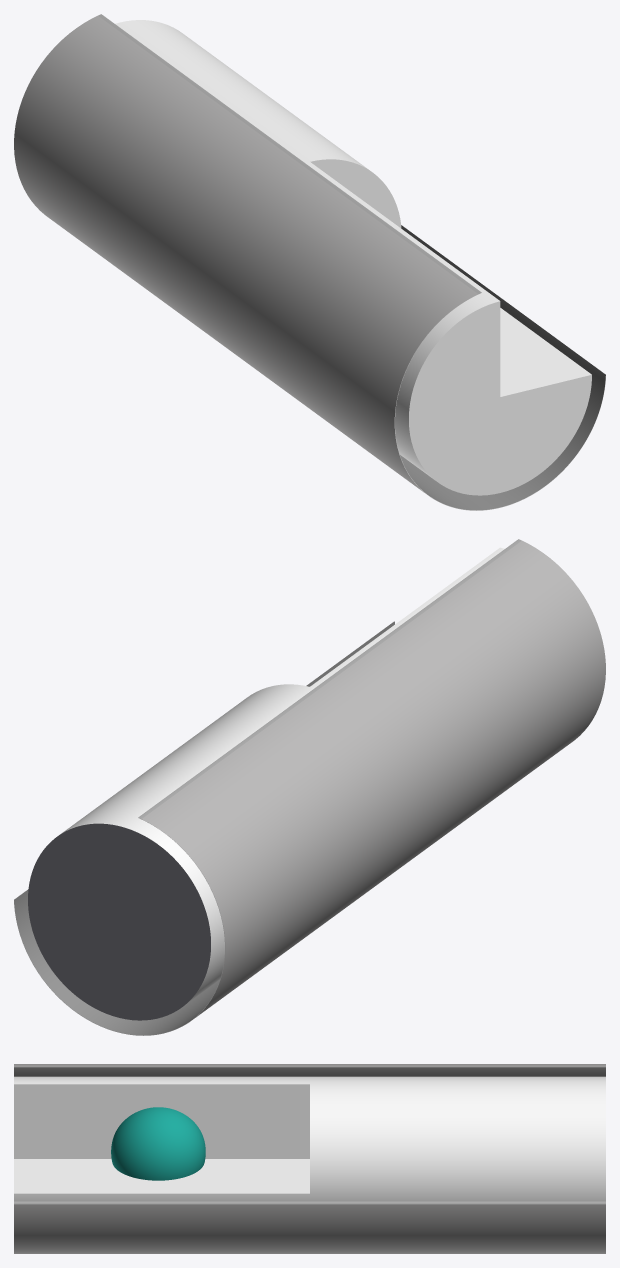
Rendered from filter.glb.
The picture shows the model from 3 angles, top to bottom: view 1: azimuth 30°, elevation 25°; view 2: azimuth 150°, elevation 25°; view 3: azimuth 270°, elevation 25°; orthographic projection. The views are drawn at different scales.
Bounding box in the file's own units: 0.00801 × 0.00795 × 0.025.
